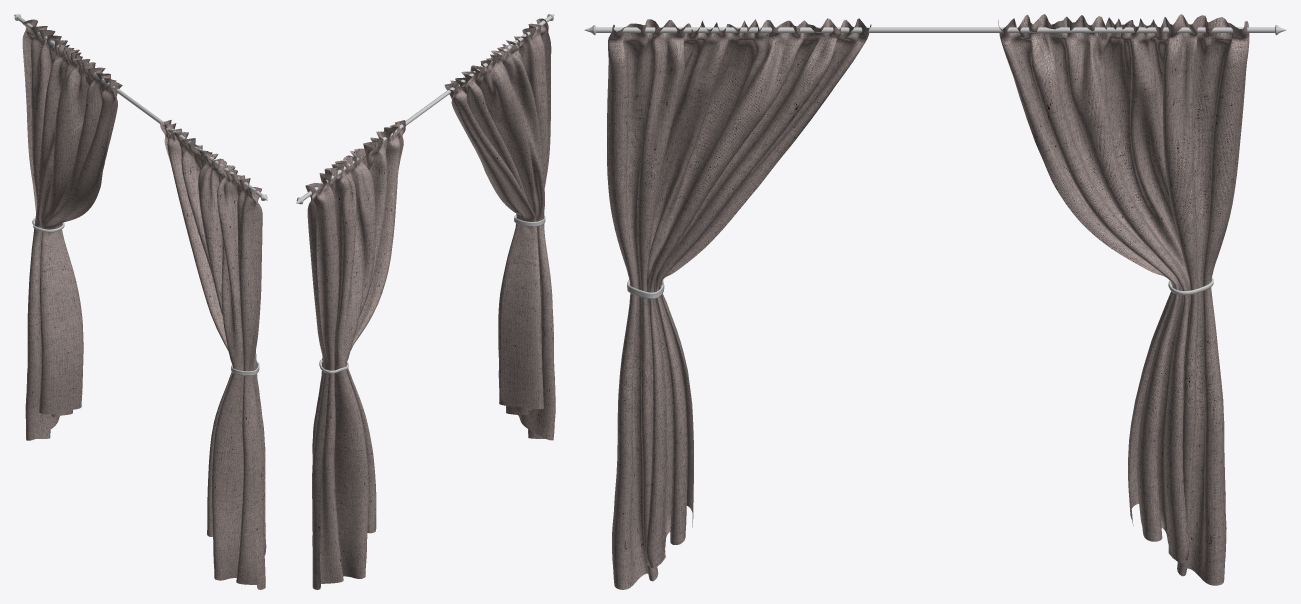
Rendered from SM_His_Sal_Curtain_01.fbx.
3 views of the same model, side by side, from view 1: azimuth 30°, elevation 25°; view 2: azimuth 150°, elevation 25°; view 3: azimuth 270°, elevation 25° (orthographic). The views are drawn at different scales.
Parts seen in each view (by area): view 1: SM_His_Sal_Curtain_01_LOD0; view 2: SM_His_Sal_Curtain_01_LOD0; view 3: SM_His_Sal_Curtain_01_LOD0.
Boxes of the visible parts, x1,y1,x2,y2 form: SM_His_Sal_Curtain_01_LOD0: (14,14,267,589); SM_His_Sal_Curtain_01_LOD0: (296,14,555,589); SM_His_Sal_Curtain_01_LOD0: (584,14,1286,589).
Size of the model in its own units: 27.27 by 229 by 204.
